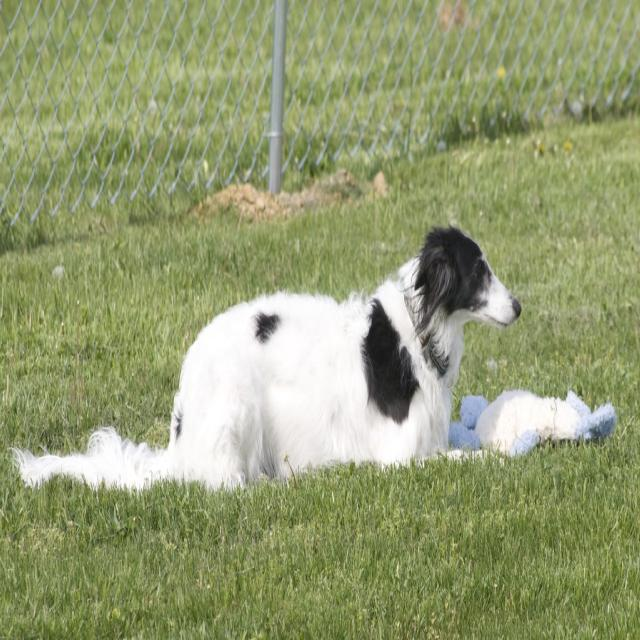Dog: (6, 215, 522, 489)
